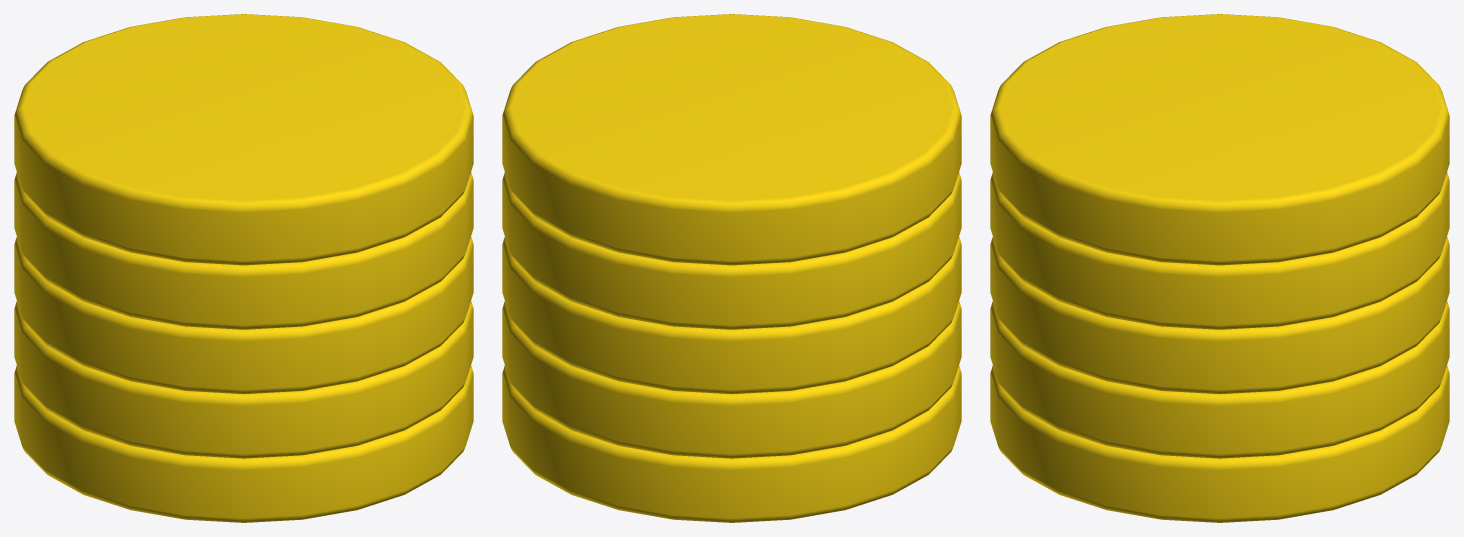
File: Public_1_Stack_of_Coins_3.glb
3 renders of one model, left to right at view 1: azimuth 30°, elevation 25°; view 2: azimuth 150°, elevation 25°; view 3: azimuth 270°, elevation 25°, orthographic.
Parts seen in each view (by area): view 1: Public_1_Stack_of_Coins_3; view 2: Public_1_Stack_of_Coins_3; view 3: Public_1_Stack_of_Coins_3.
Part boxes in pixels (box(x1,y1,x2,y2)): Public_1_Stack_of_Coins_3: box(14, 14, 473, 522); Public_1_Stack_of_Coins_3: box(502, 14, 961, 522); Public_1_Stack_of_Coins_3: box(990, 14, 1449, 522).
Bounding box in the file's own units: 1.11 × 0.8596 × 1.11.
Materials: 1 (1 with a texture image).
